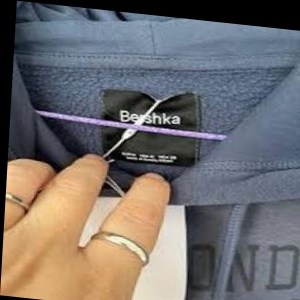bershka: (131, 61, 245, 167)
